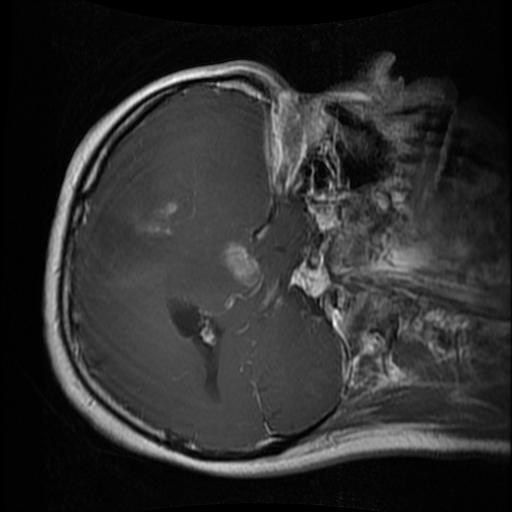glioma: (224, 236, 260, 290)
